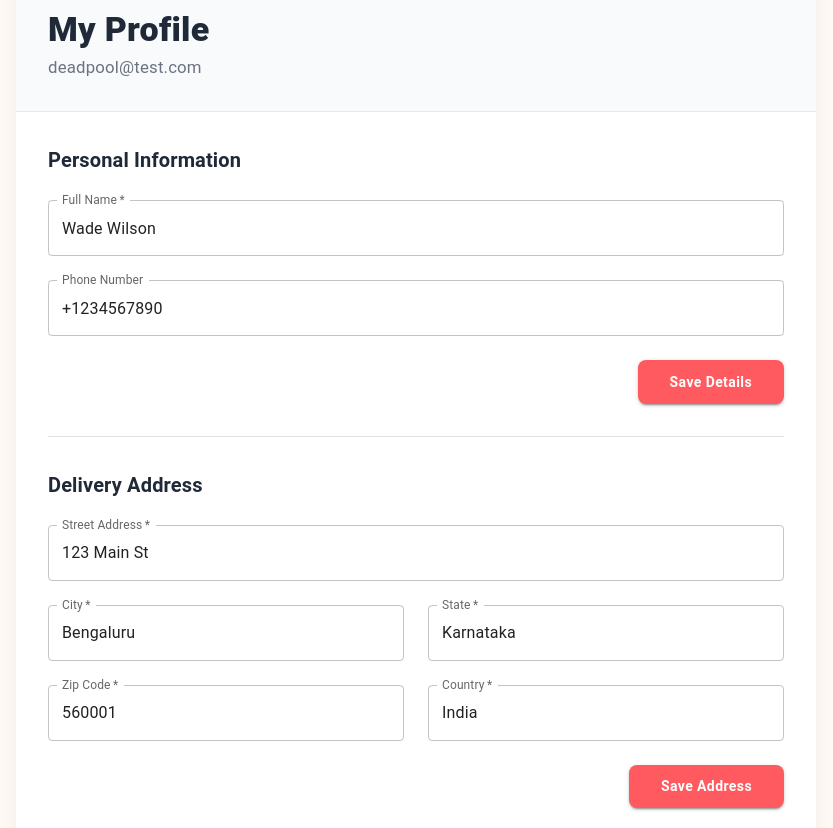
ProfilePage › validates address fields correctly on save address submit
Clear the field labelled "Street Address *": (416, 553) [48,525,784,581]
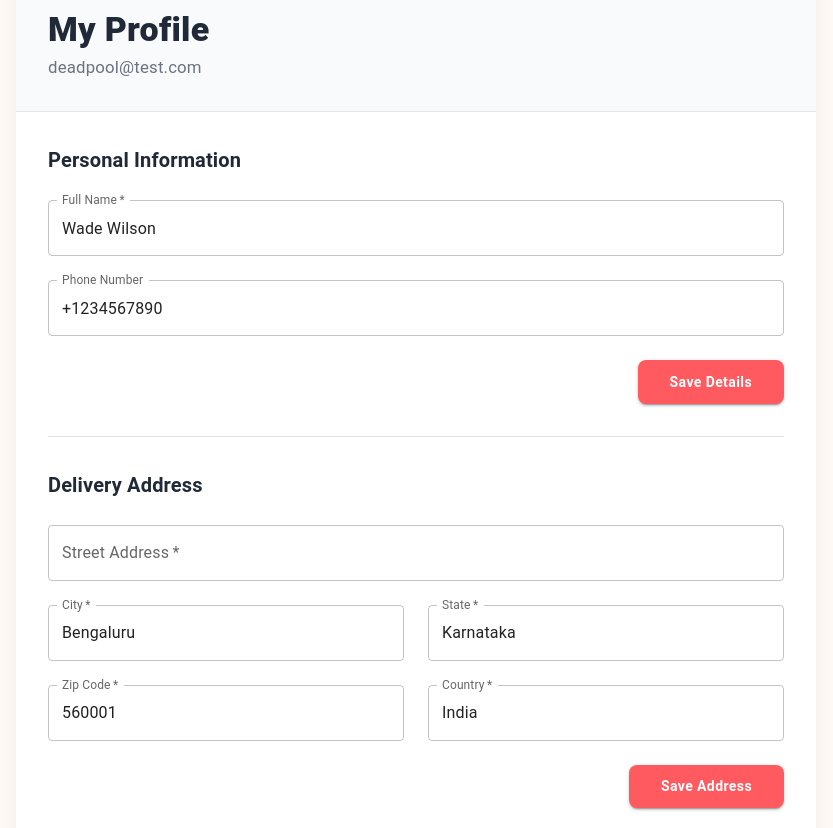
Clear the field labelled "City *": (226, 633) [48,605,404,661]
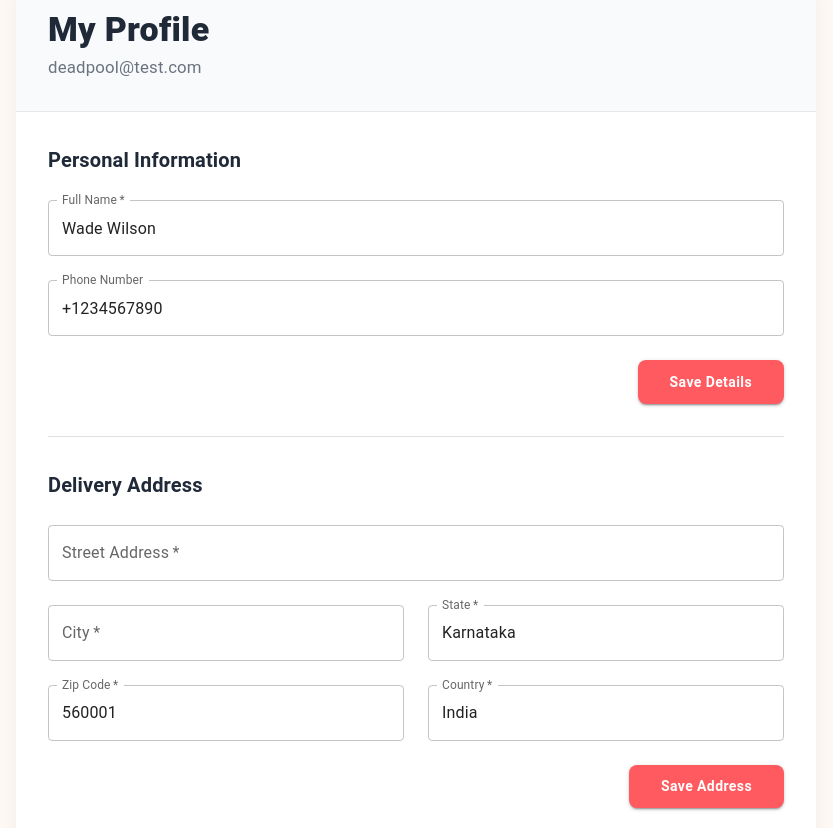
Clear the field labelled "State *": (606, 633) [428,605,784,661]
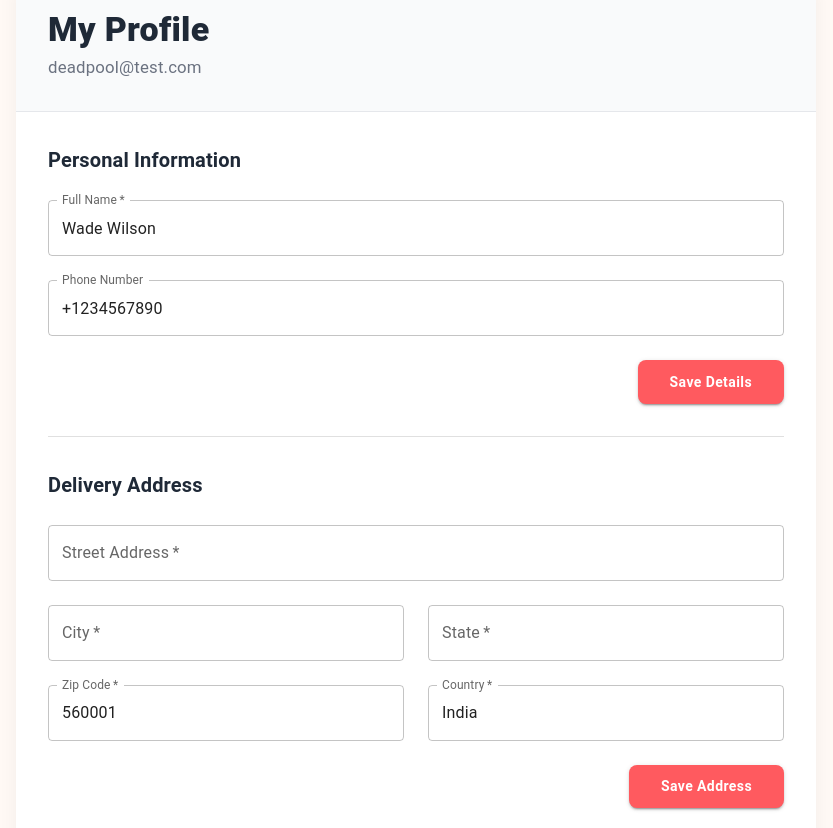
Clear the field labelled "Zip Code *": (226, 713) [48,685,404,741]
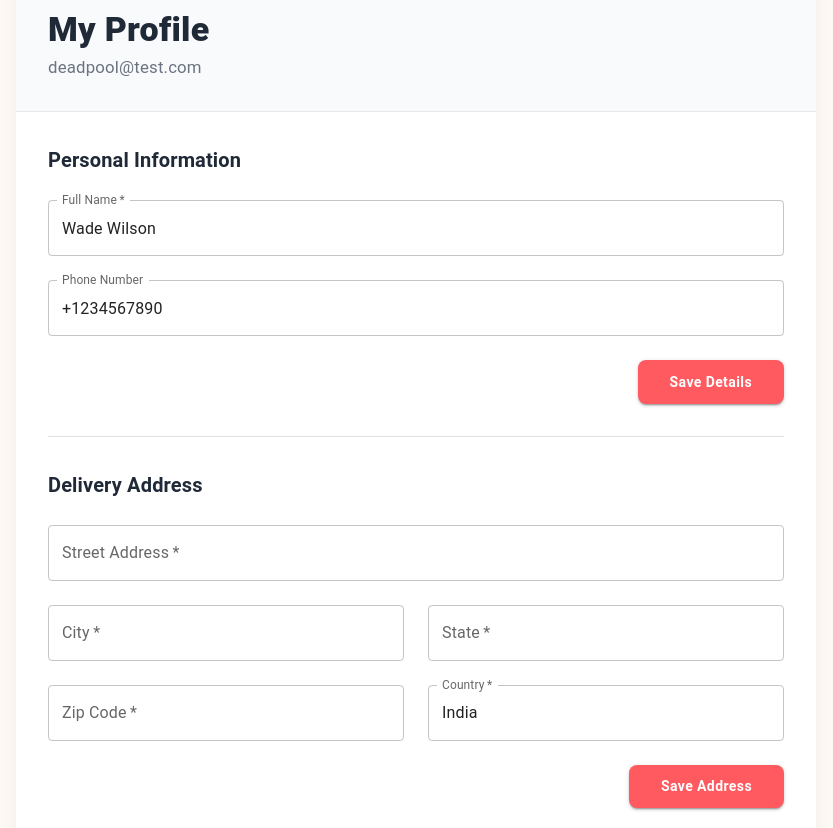
Clear the field labelled "Country *": (606, 713) [428,685,784,741]
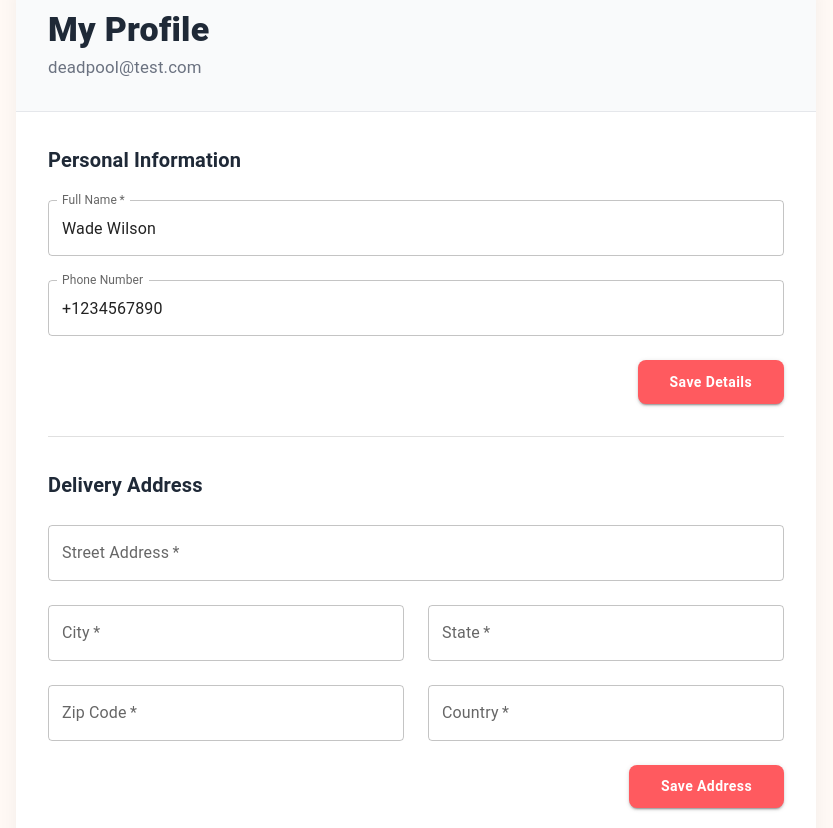
Click the button "Save Address": (706, 787) [629,765,784,808]
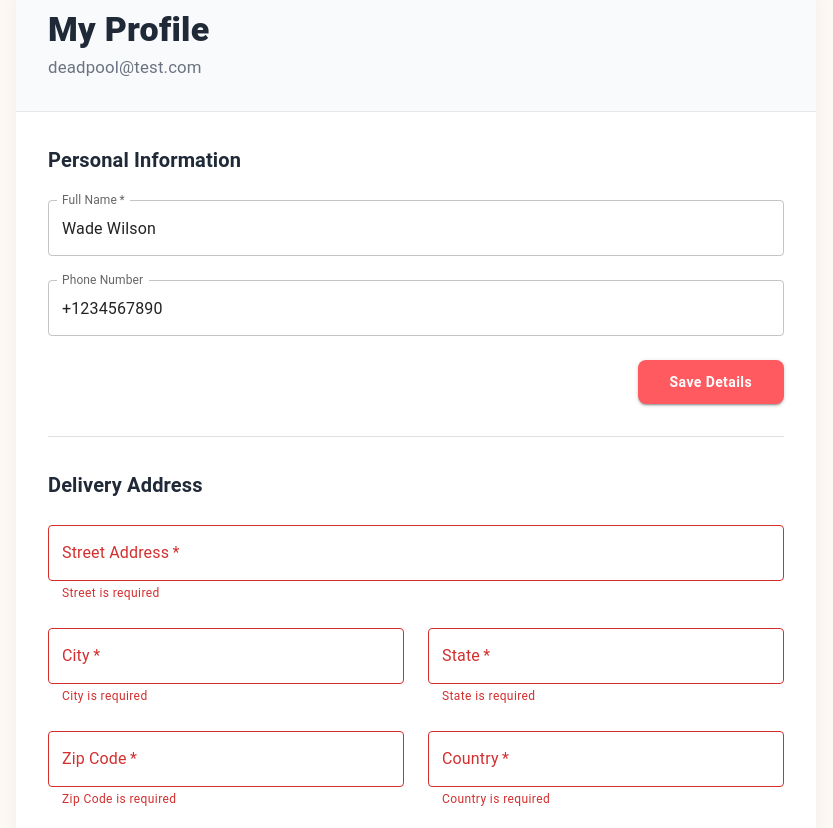
Now the text "Street is required" is shown, box [62,586,160,600]
Now the text "City is required" is shown, box [62,689,148,703]
Now the text "State is required" is shown, box [442,689,536,703]
